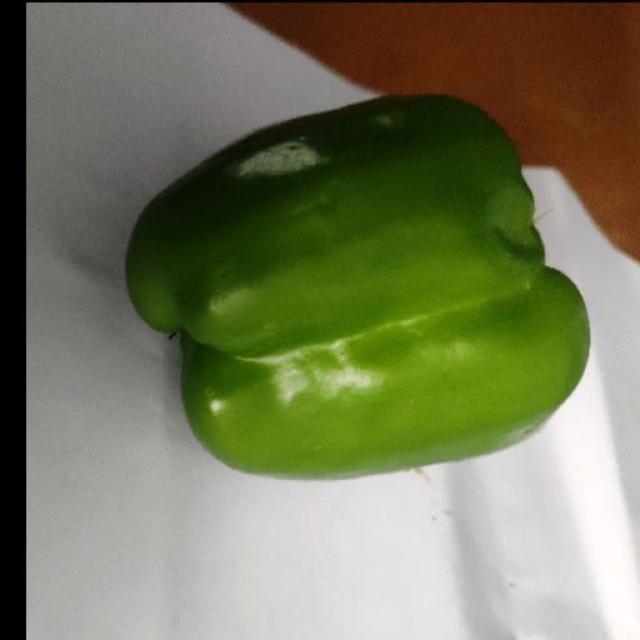Stale_Capsicum: (130, 106, 570, 437)
